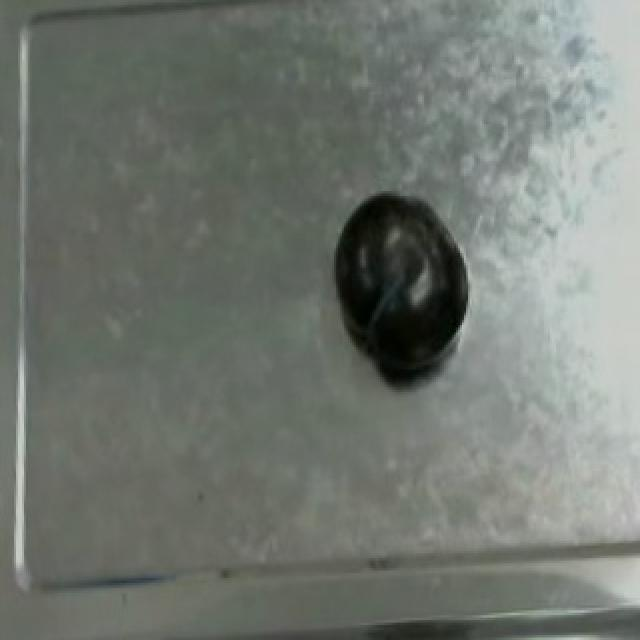Fruit: (324, 181, 472, 387)
